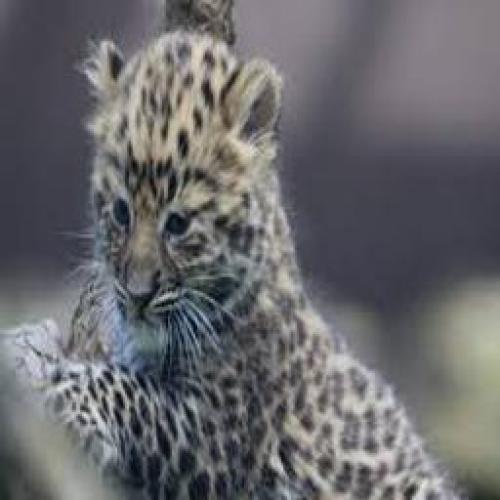amur_leopard-endangered: (9, 29, 453, 496)
